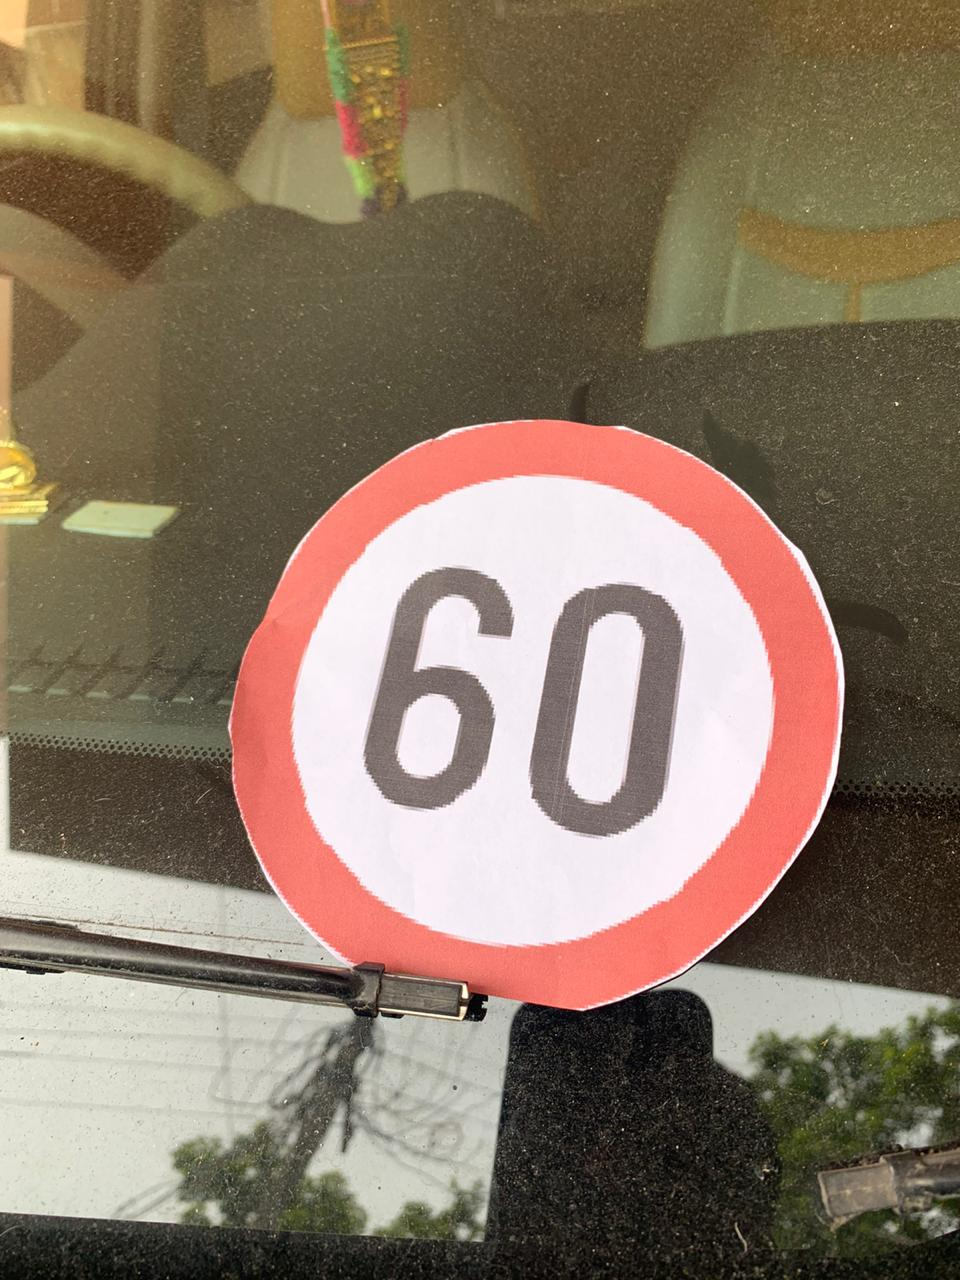SPEED LIMIT (60 KM/H): (259, 379, 864, 1049)
